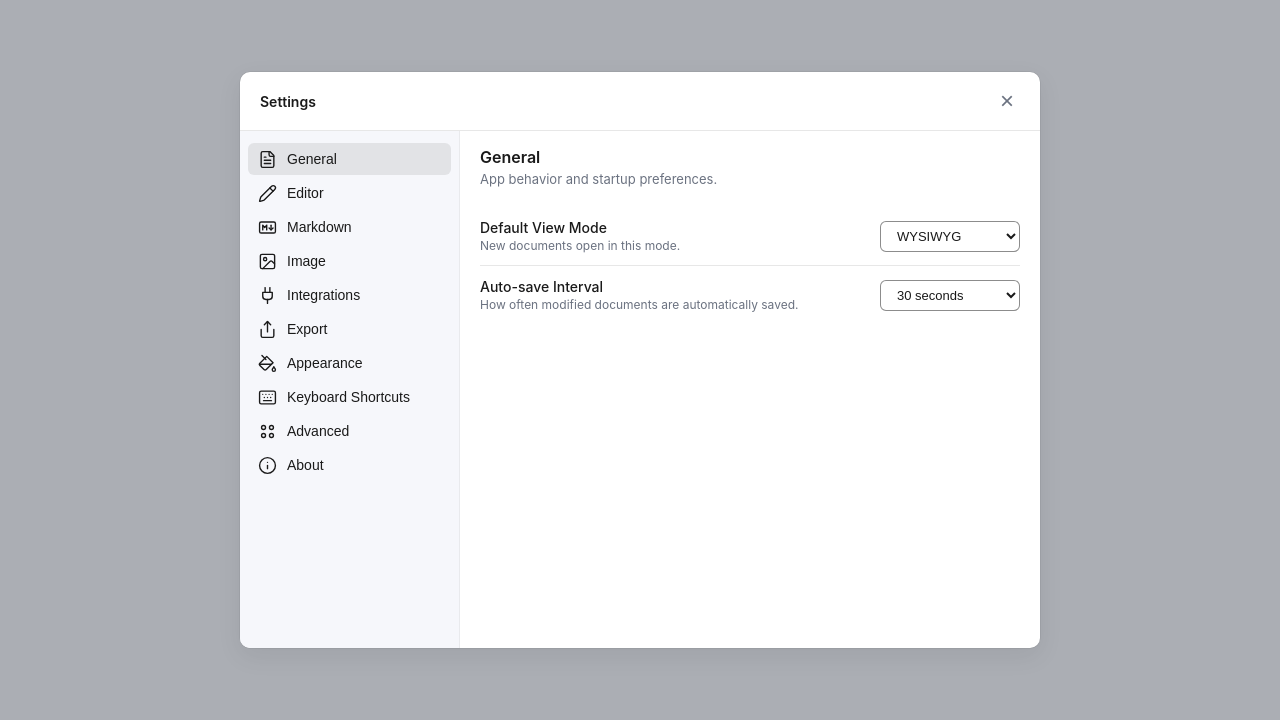
Test: MCP-FIX-C2 server info renders only with a bound port › C2-02 launch running with a port shows the Listening-on row with that port
Click the button "Integrations" at (350, 295), box left=248, top=279, right=451, bottom=311
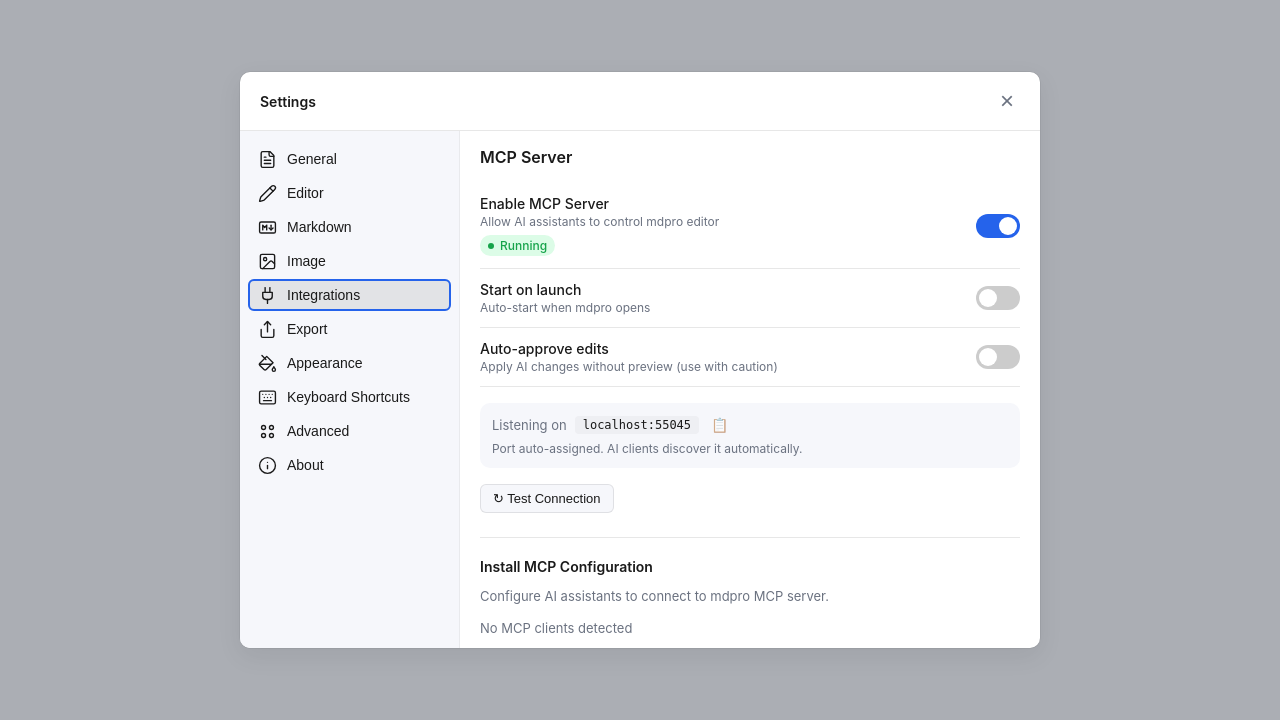
Result: the switch labelled "Enable MCP Server" is shown at left=976, top=214, right=1020, bottom=238
Result: the message "Running" is shown at left=480, top=235, right=555, bottom=256
Result: the text "Listening on" is shown at left=492, top=417, right=567, bottom=433
